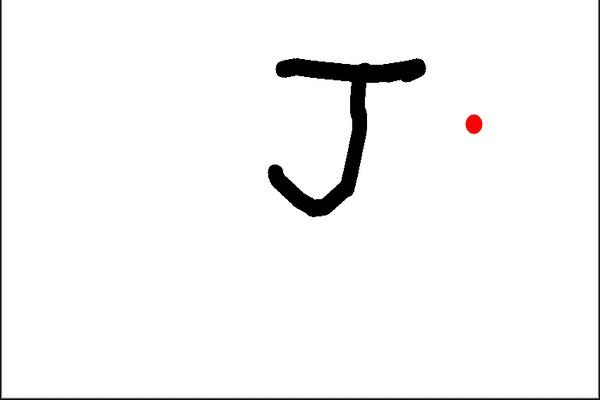J: (258, 49, 430, 222)
